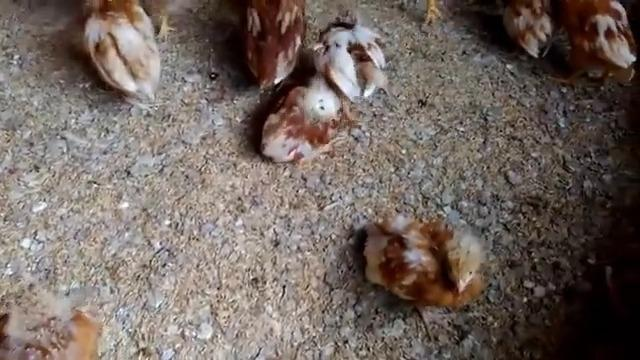Normal: (358, 206, 496, 314)
